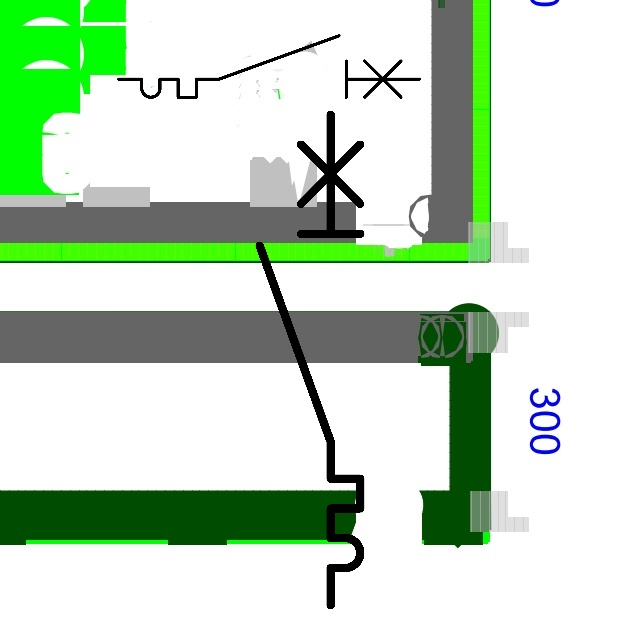interruptor_termomagnetico: (247, 102, 373, 618), (111, 28, 427, 105)
